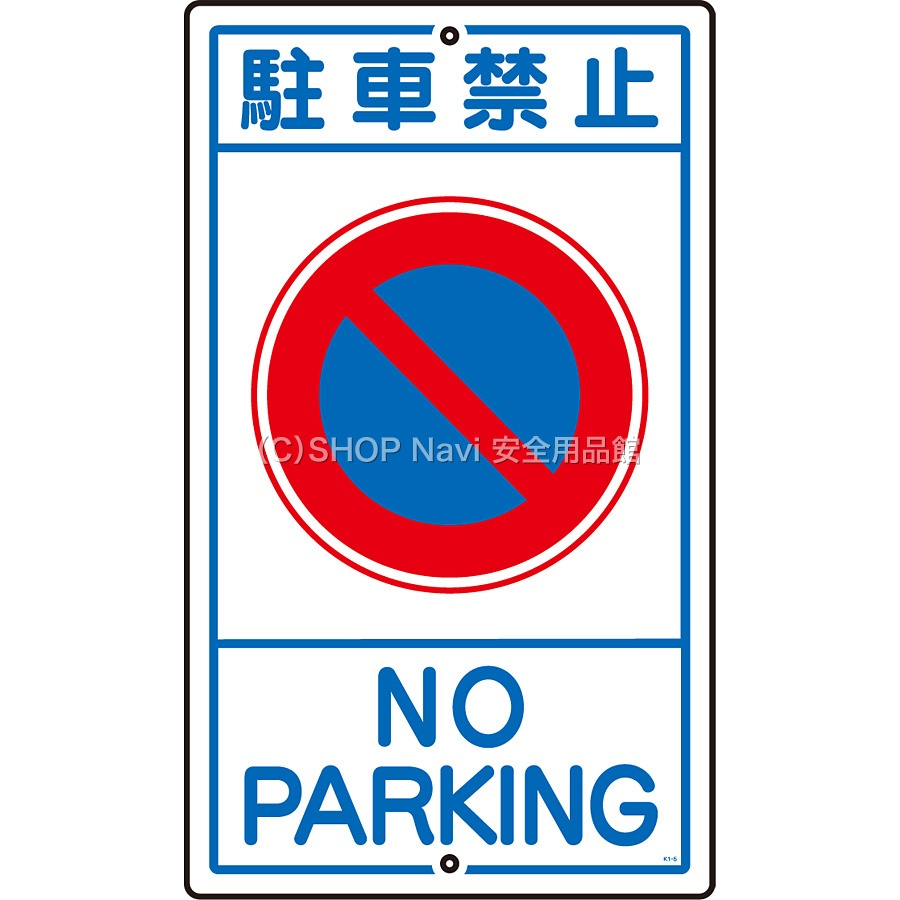Prohibition_sign: (220, 194, 665, 615)
